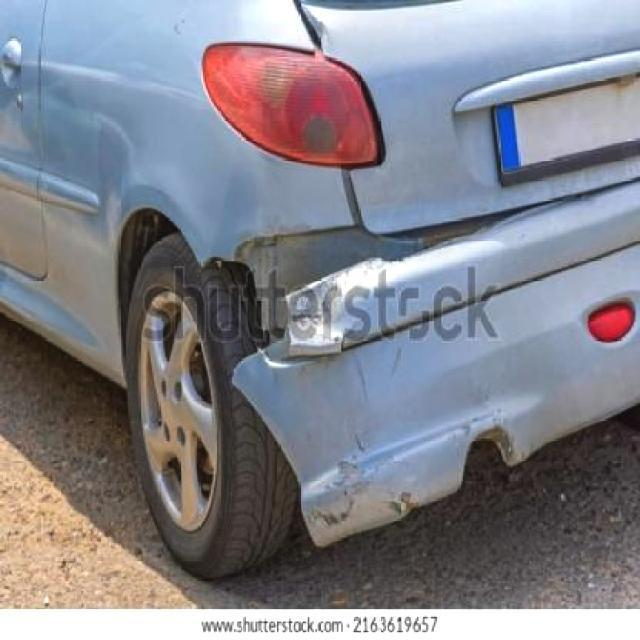minor: (212, 182, 640, 483)
